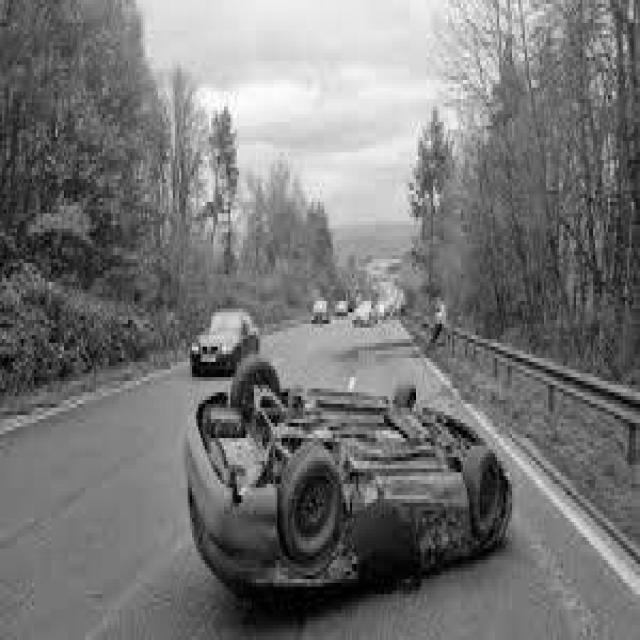accident: (179, 356, 516, 604)
vehicle: (188, 310, 260, 380), (354, 300, 380, 333), (308, 298, 331, 328), (333, 300, 348, 322)
